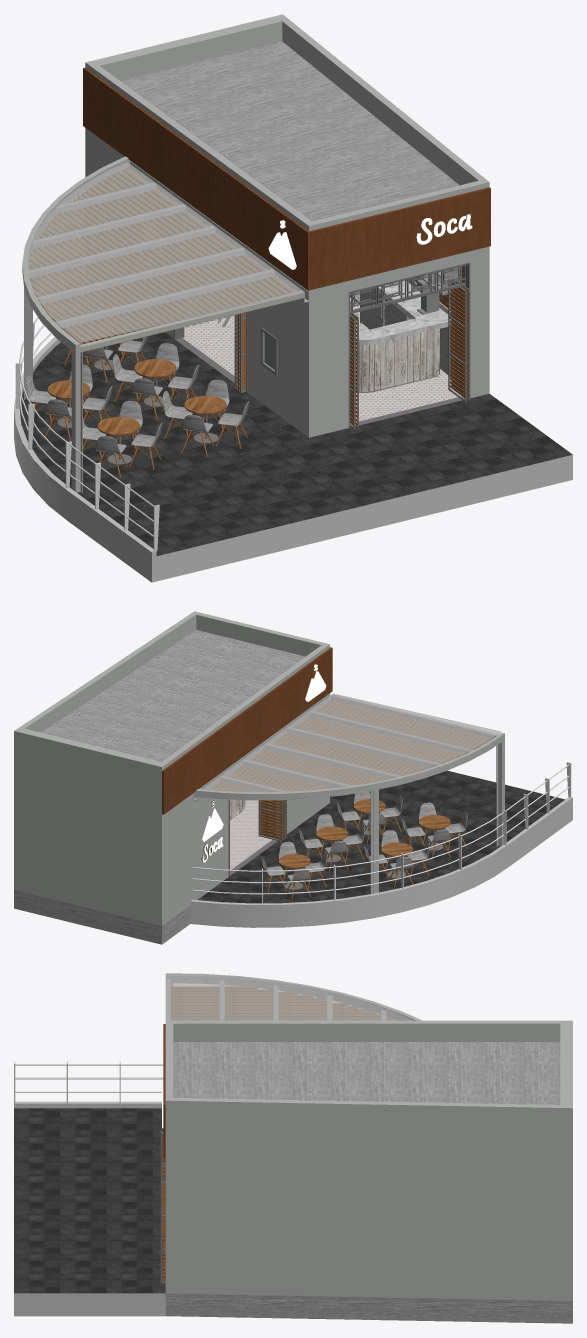
Rendered from new_cafe.glb.
3 renders of one model, top to bottom at view 1: azimuth 30°, elevation 25°; view 2: azimuth 150°, elevation 25°; view 3: azimuth 270°, elevation 25°, orthographic. The views are drawn at different scales.
Visible parts, largest first — view 1: Material2 (×5), Material3 (×7); view 2: Material2 (×4), Material3 (×6); view 3: Material2 (×4), Material3.
Part boxes in pixels (left/top/right/bottom): Material2 (×5): left=14, top=14, right=572, bottom=582; Material3 (×7): left=20, top=67, right=572, bottom=555; Material2 (×4): left=14, top=611, right=572, bottom=944; Material3 (×6): left=162, top=647, right=564, bottom=903; Material2 (×4): left=14, top=973, right=572, bottom=1323; Material3: left=14, top=1108, right=165, bottom=1293.
Size of the model in its own units: 358 by 185 by 435.
18 materials, 18 textured.
